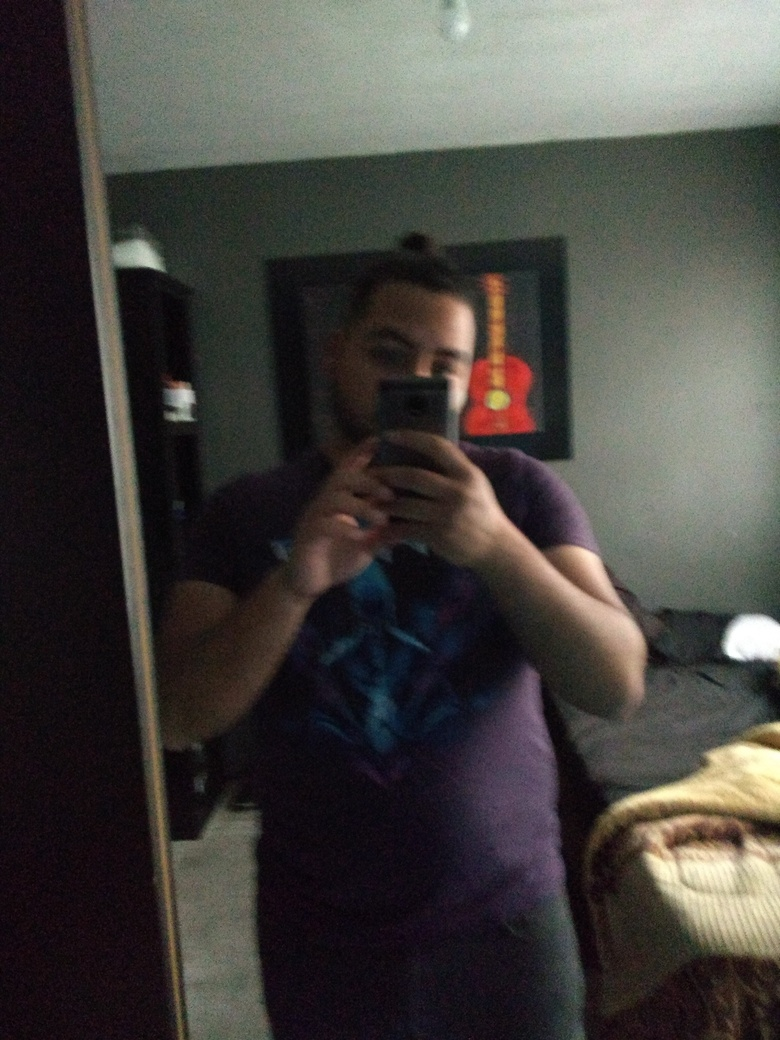Yoshi: (293, 239, 522, 481)
